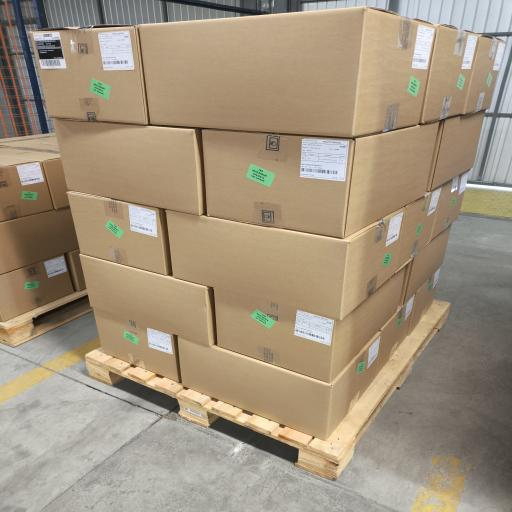pallet: (86, 301, 450, 479), (0, 290, 92, 347)
